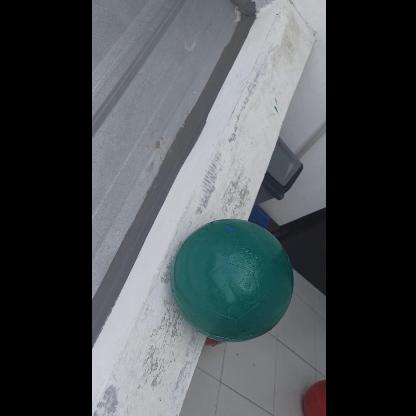green_ball: (170, 216, 294, 340)
